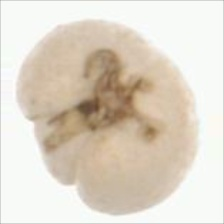L5: (55, 47, 164, 151), (27, 108, 87, 191)
L6: (14, 18, 202, 217)
